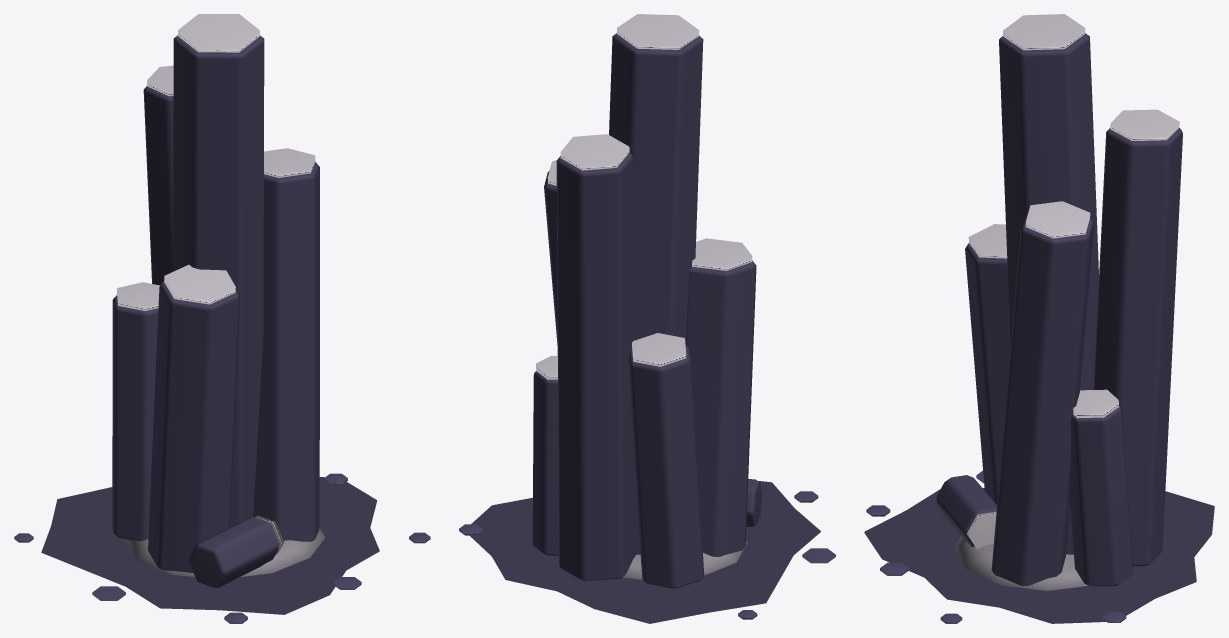
The model's file is basalt_column.glb.
3 renders of one model, left to right at view 1: azimuth 30°, elevation 25°; view 2: azimuth 150°, elevation 25°; view 3: azimuth 270°, elevation 25°, orthographic.
Visible parts, largest first — view 1: Columns, Skirt, Fallen; view 2: Columns, Skirt, Fallen; view 3: Columns, Skirt, Fallen.
Boxes of the visible parts, bbox=[...] form: Columns: bbox=[112, 14, 319, 572]; Skirt: bbox=[14, 473, 430, 623]; Fallen: bbox=[126, 515, 325, 588]; Columns: bbox=[532, 14, 756, 588]; Skirt: bbox=[459, 480, 835, 623]; Fallen: bbox=[622, 479, 762, 579]; Columns: bbox=[965, 14, 1182, 586]; Skirt: bbox=[864, 471, 1214, 623]; Fallen: bbox=[936, 475, 1088, 590].
Size of the model in its own units: 1.51 by 2.45 by 1.46.
